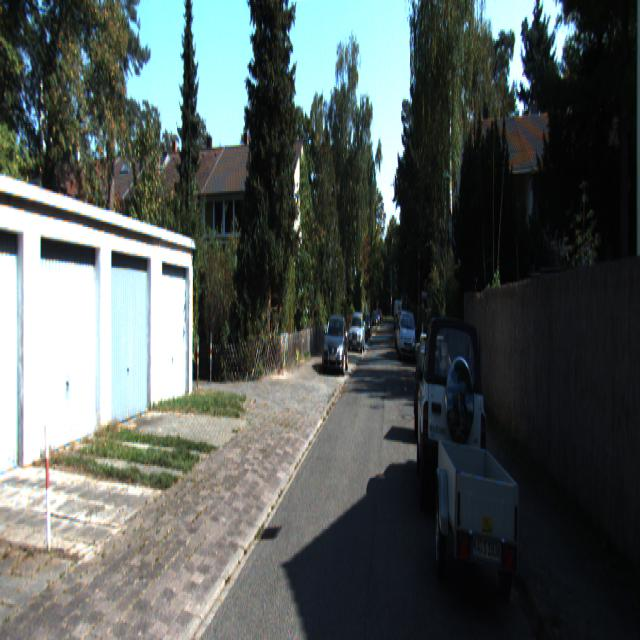Car: (440, 428, 526, 620), (419, 307, 488, 524), (322, 311, 349, 373), (401, 309, 417, 362), (349, 311, 366, 351)
